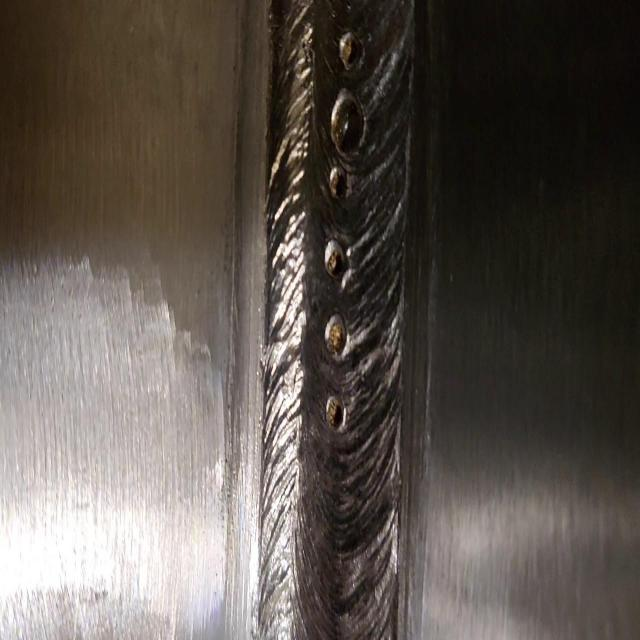Welding Line: (274, 10, 402, 640)
porosity: (324, 30, 366, 433)
